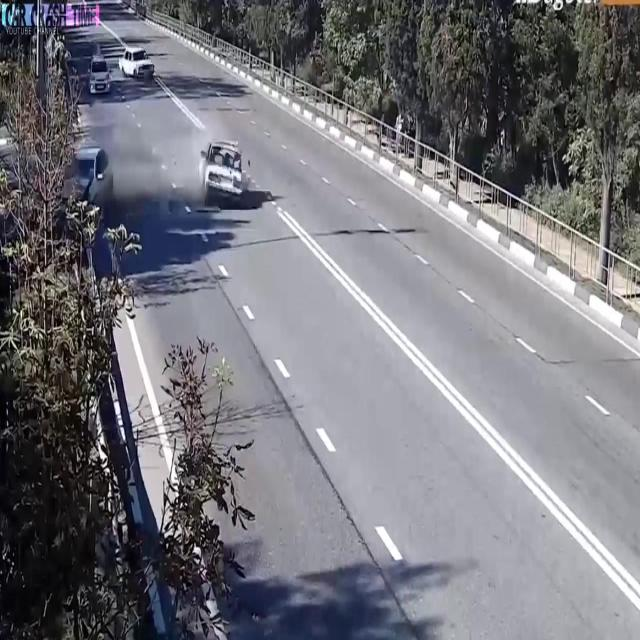accident: (44, 135, 130, 233), (178, 121, 263, 219)
non_accident: (81, 38, 161, 107)
